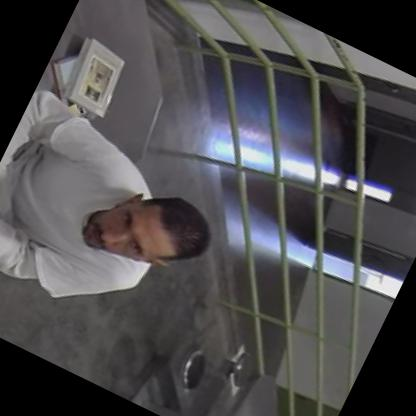Human Body: (0, 83, 242, 392)
